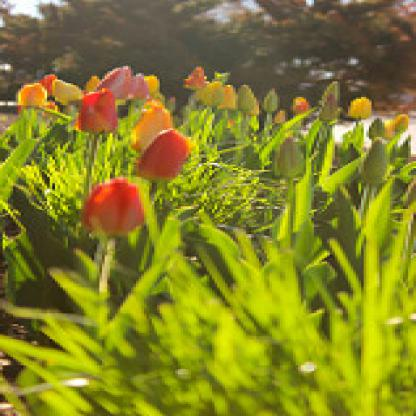TULIP: (17, 27, 404, 251)
